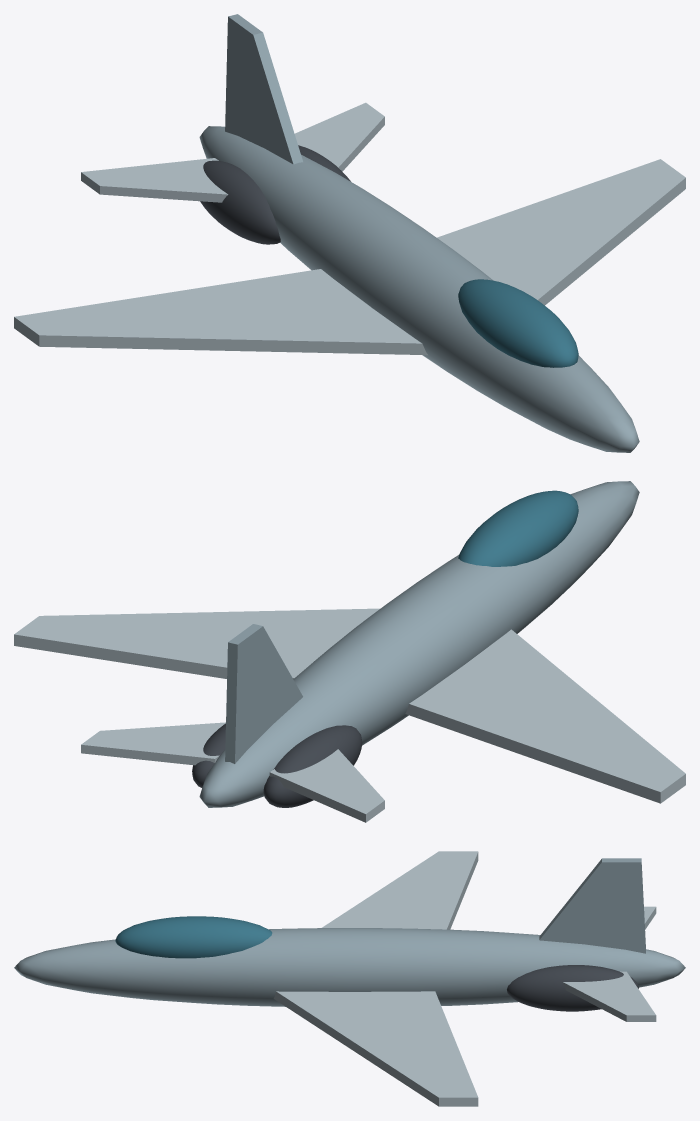
Rendered from aircraft.glb.
3 views of the same model, one above another, from view 1: azimuth 30°, elevation 25°; view 2: azimuth 150°, elevation 25°; view 3: azimuth 270°, elevation 25° (orthographic). The views are drawn at different scales.
Visible parts, largest first — view 1: 机身, 主翼, 主翼.001, 垂直尾翼, 座舱, 水平尾翼, 发动机, 水平尾翼.001; view 2: 机身, 主翼, 主翼.001, 垂直尾翼, 座舱, 水平尾翼.001, 水平尾翼, 发动机, 发动机.001; view 3: 机身, 主翼.001, 垂直尾翼, 主翼, 座舱, 发动机.001, 水平尾翼.001.
Boxes of the visible parts, x1,y1,x2,y2 form: 机身: (199,126,639,452); 主翼: (14,269,427,355); 主翼.001: (437,159,685,305); 垂直尾翼: (225,14,302,164); 座舱: (458,279,578,367); 水平尾翼: (81,158,228,202); 发动机: (200,160,280,244); 水平尾翼.001: (294,102,384,171); 机身: (199,481,639,807); 主翼: (405,629,685,803); 主翼.001: (14,608,379,678); 垂直尾翼: (225,624,302,763); 座舱: (458,490,578,566); 水平尾翼.001: (81,722,225,765); 水平尾翼: (269,749,384,822); 发动机: (263,725,362,807); 发动机.001: (192,723,225,787); 机身: (14,928,685,1006); 主翼.001: (273,991,478,1106); 垂直尾翼: (539,858,645,953); 主翼: (322,851,478,929); 座舱: (115,916,272,958); 发动机.001: (507,965,638,1011); 水平尾翼.001: (563,971,656,1021).
Bounding box in the file's own units: 11.8 × 3.2 × 13.6.
